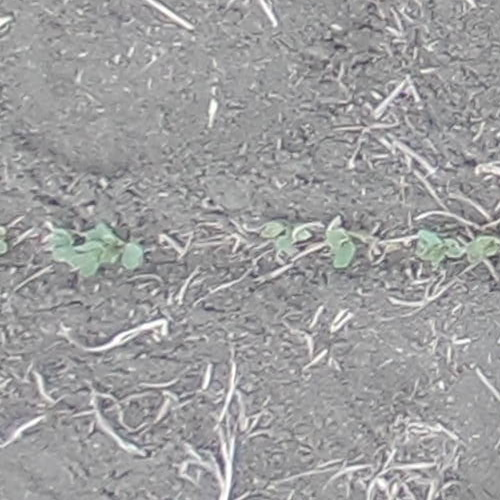clumped: (76, 233, 144, 276), (416, 230, 487, 267)
isolated: (326, 224, 354, 268), (264, 220, 299, 252), (47, 227, 74, 263)
